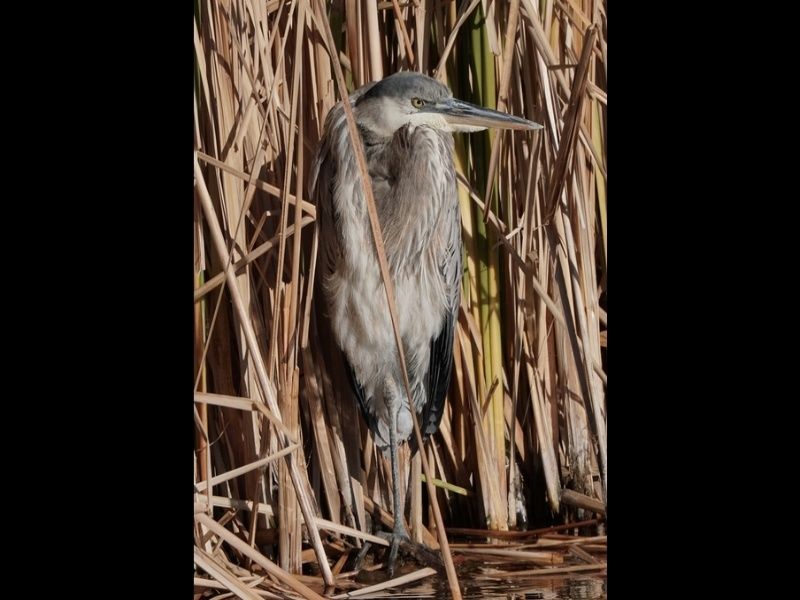heron: (313, 73, 547, 551)
